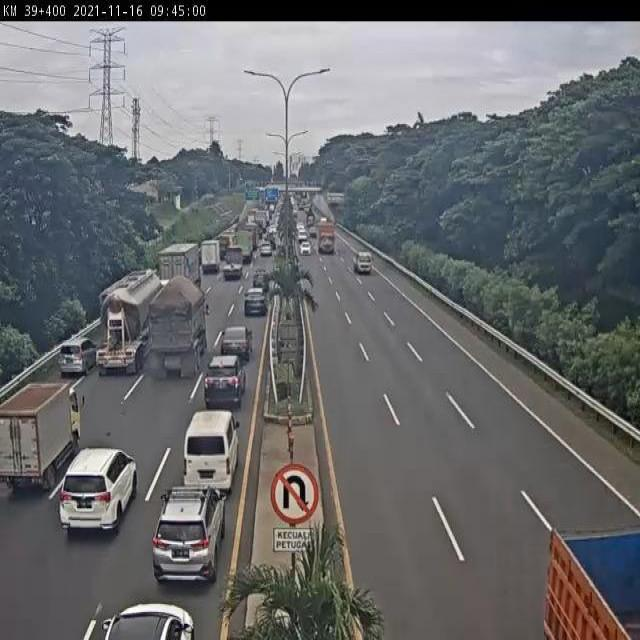car: (58, 447, 138, 532), (152, 488, 225, 581), (203, 354, 244, 406), (56, 338, 98, 378), (219, 327, 252, 361), (242, 291, 266, 317), (251, 268, 269, 293)
small bus: (183, 412, 239, 492)
small truck: (0, 381, 85, 488)
truck-l-: (149, 277, 210, 383), (158, 242, 203, 306)
truck-m-: (199, 237, 221, 275), (220, 247, 244, 281)
truck-xl-: (92, 271, 166, 380)
